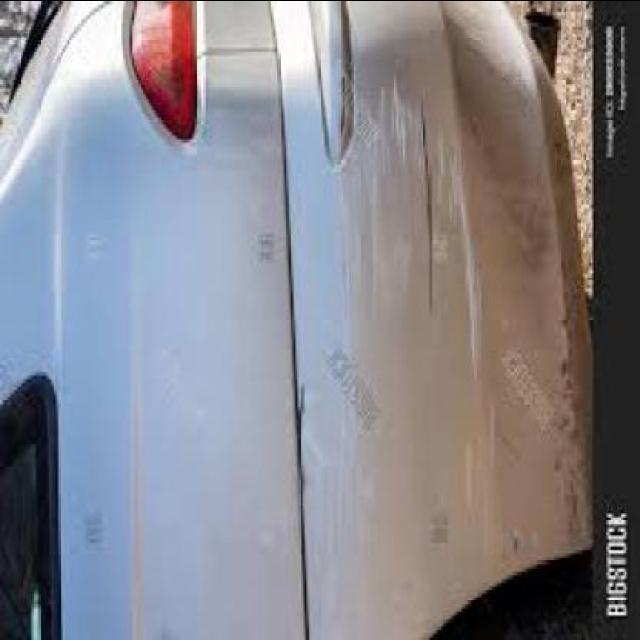rear-bumper-scratch: (298, 78, 588, 524)
